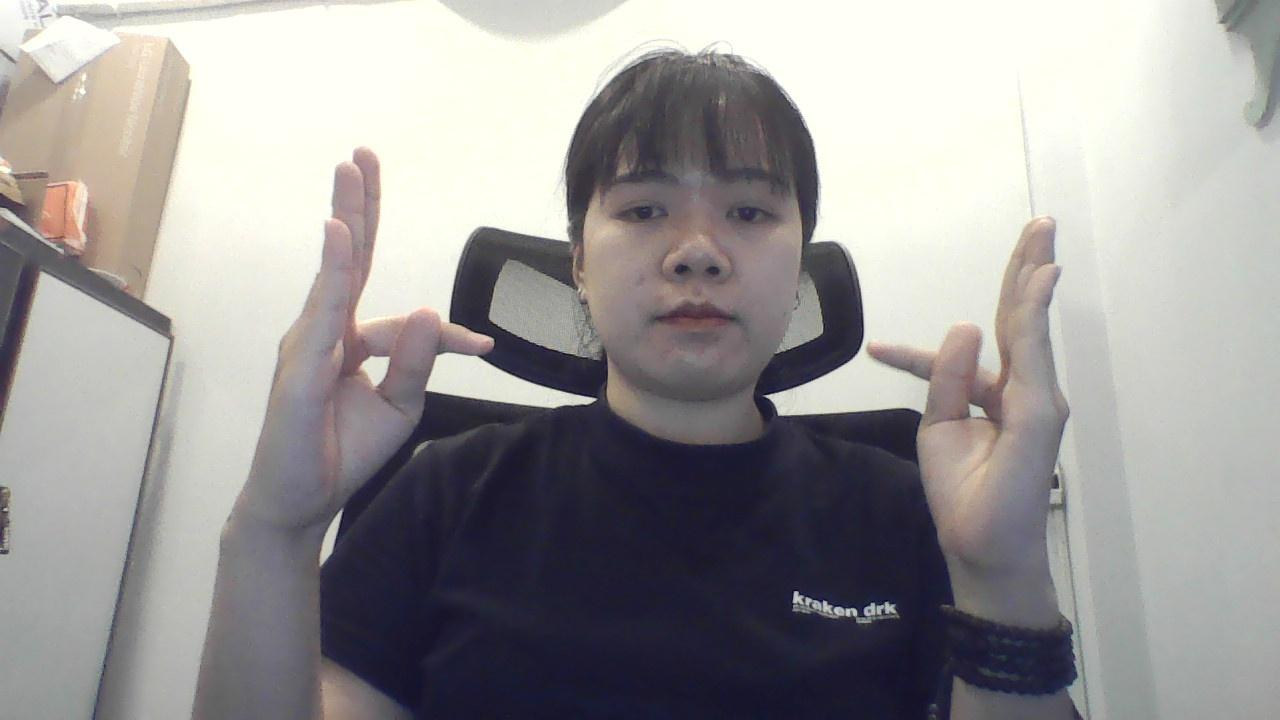T: (247, 130, 489, 546), (852, 197, 1086, 599)
